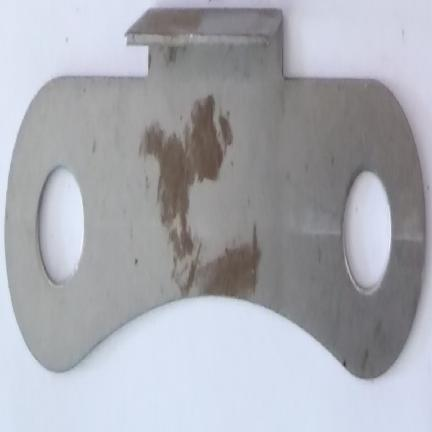besi_tidak_karat: (4, 9, 426, 379)
karat: (148, 100, 260, 301), (189, 96, 222, 180)
